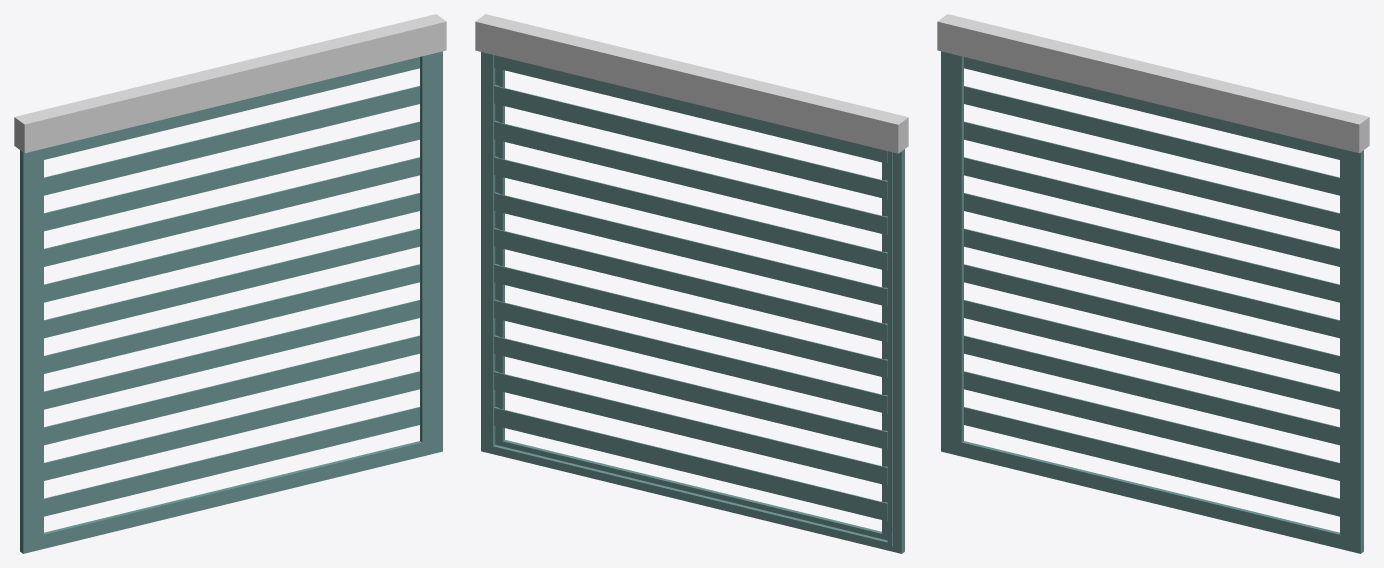
File: zebraBlindAnim.glb
The picture shows the model from 3 angles, left to right: view 1: azimuth 30°, elevation 25°; view 2: azimuth 150°, elevation 25°; view 3: azimuth 330°, elevation 25°; orthographic projection.
Parts seen in each view (by area): view 1: zebra_blinds, Cube; view 2: zebra_blinds, Cube; view 3: zebra_blinds, Cube.
Boxes of the visible parts, left/top/right/bottom form: zebra_blinds: left=20, top=51, right=442, bottom=553; Cube: left=14, top=14, right=446, bottom=153; zebra_blinds: left=481, top=52, right=904, bottom=553; Cube: left=475, top=14, right=908, bottom=153; zebra_blinds: left=941, top=51, right=1363, bottom=553; Cube: left=937, top=14, right=1369, bottom=153.
Size of the model in its own units: 47.08 by 45.99 by 2.
